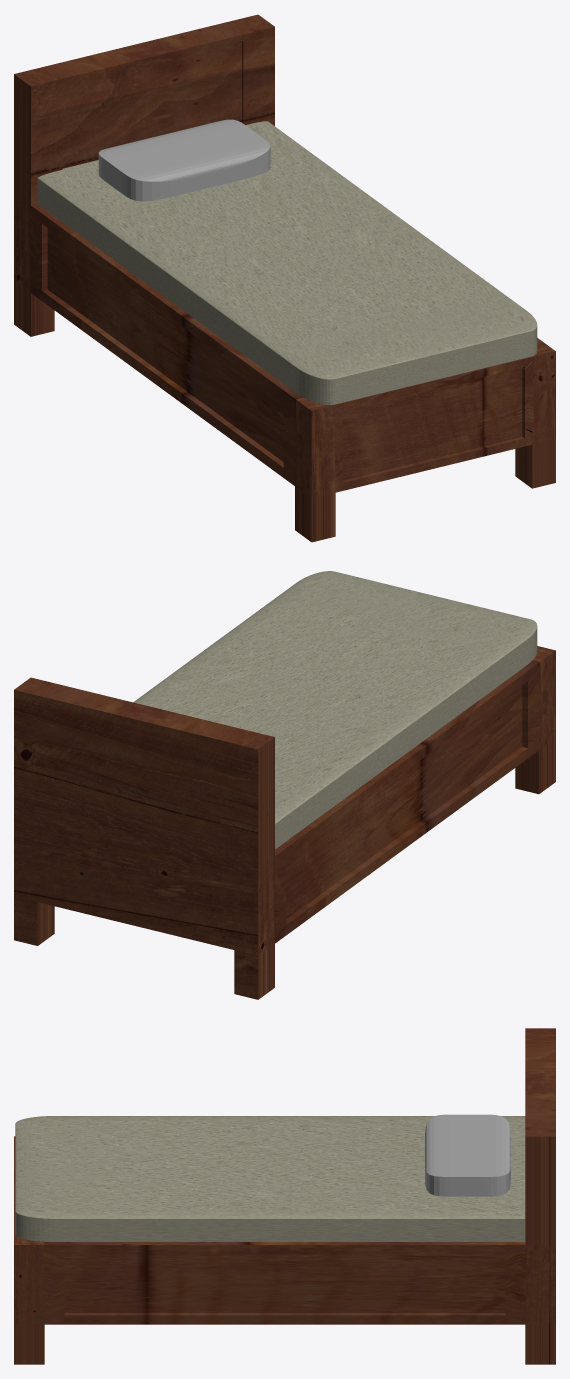
Rendered from kasur1rek.fbx.
3 views of the same model, one above another, from view 1: azimuth 30°, elevation 25°; view 2: azimuth 150°, elevation 25°; view 3: azimuth 270°, elevation 25° (orthographic). The views are drawn at different scales.
Parts seen in each view (by area): view 1: Cube.002; view 2: Cube.002; view 3: Cube.002.
Part boxes in pixels (x1,y1,x2,y2): Cube.002: (14, 14, 555, 542); Cube.002: (14, 571, 555, 999); Cube.002: (14, 1028, 555, 1364).
Bounding box in the file's own units: 597 × 585 × 1261.
